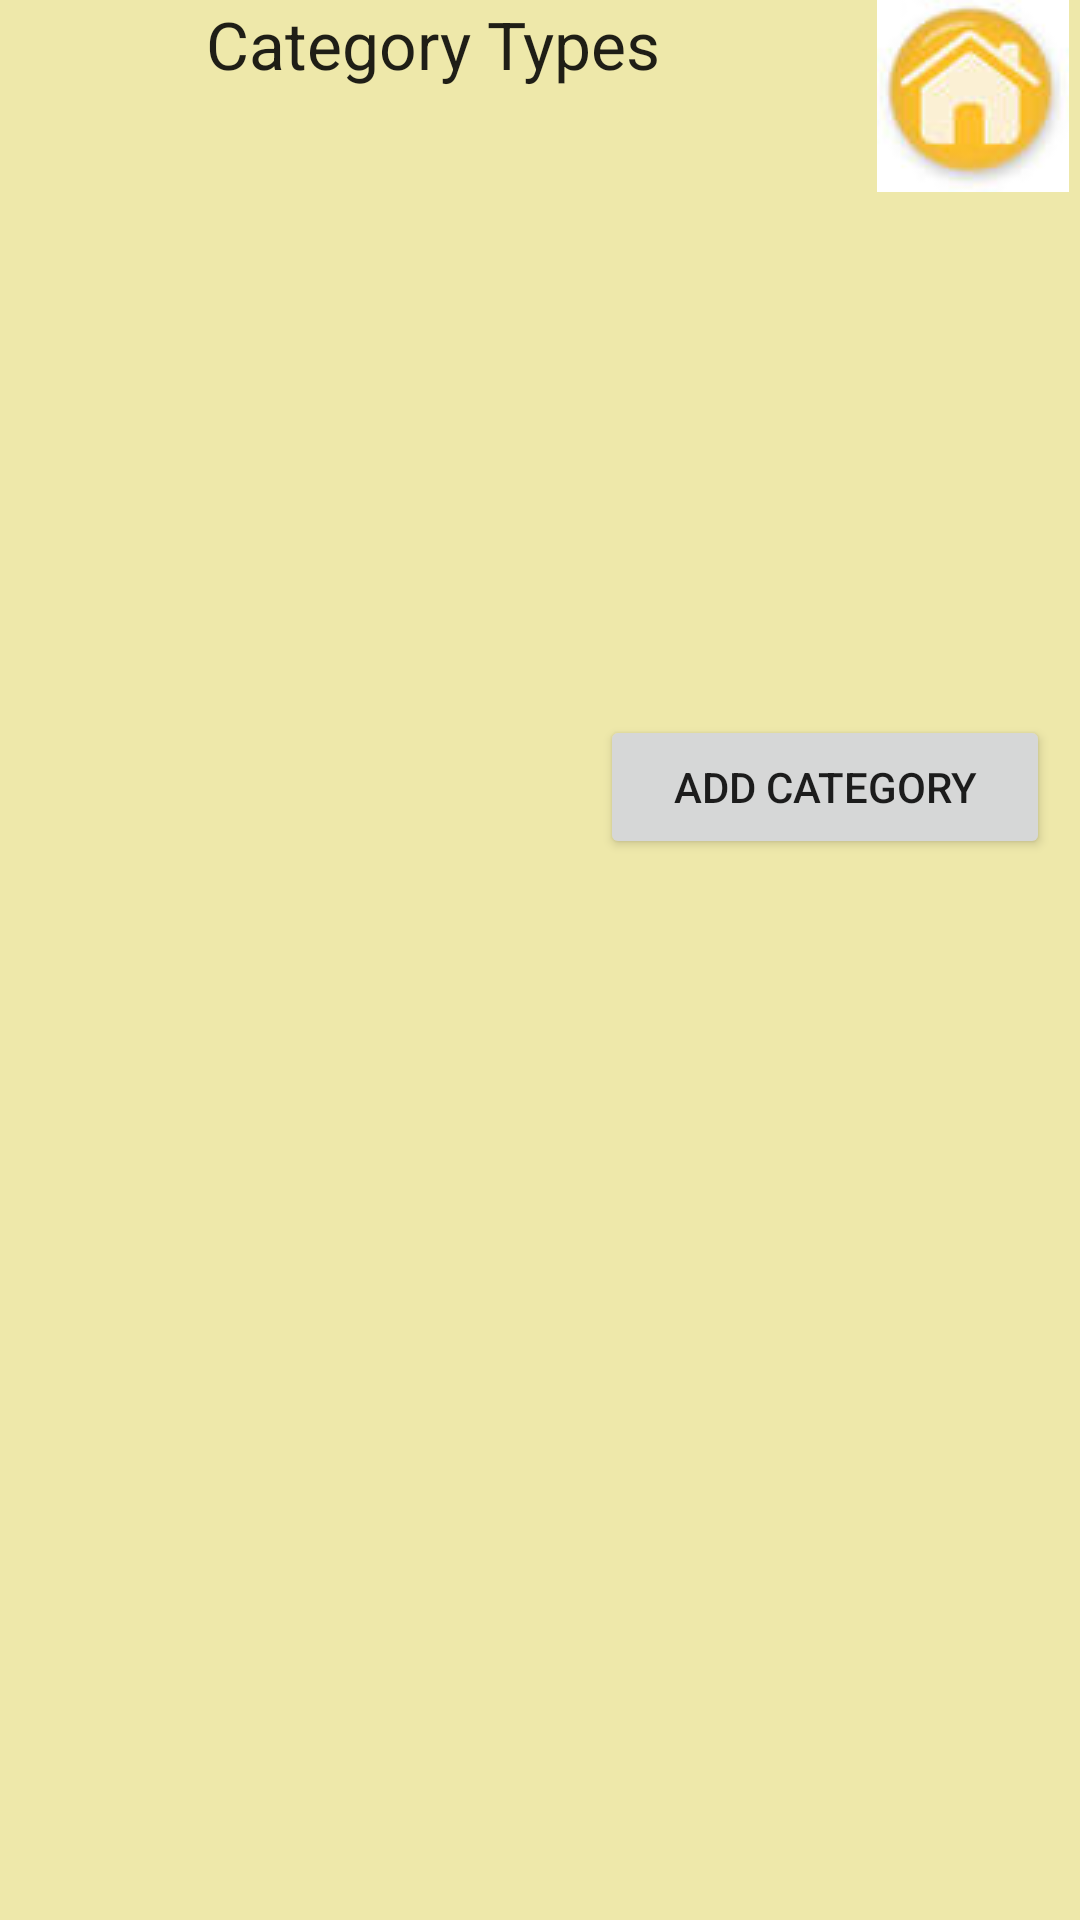

Icons on this 1080w x 1920h Android screen, each with its box as (x1, y1, x2, y2):
home: (877, 0, 1069, 192)
